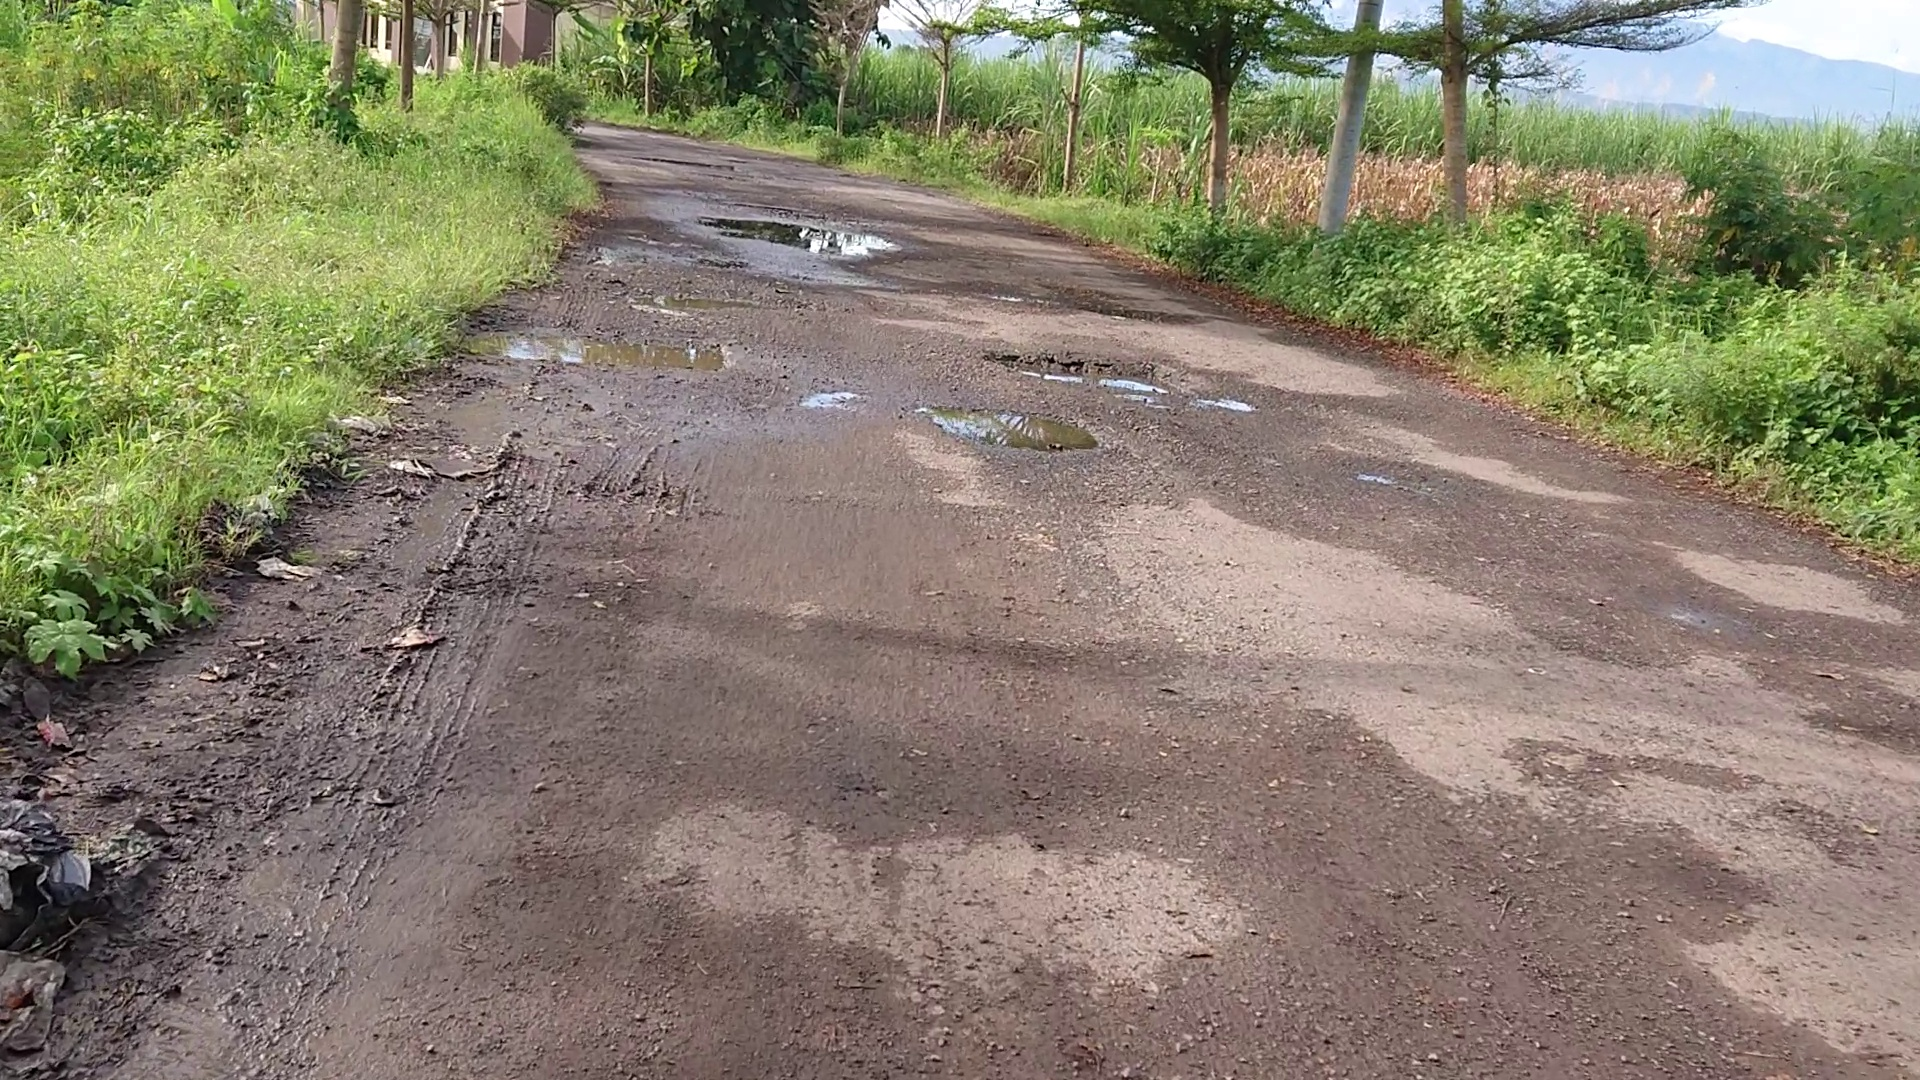Berlubang: (895, 334, 1220, 440), (955, 277, 1174, 323), (704, 218, 903, 265)
